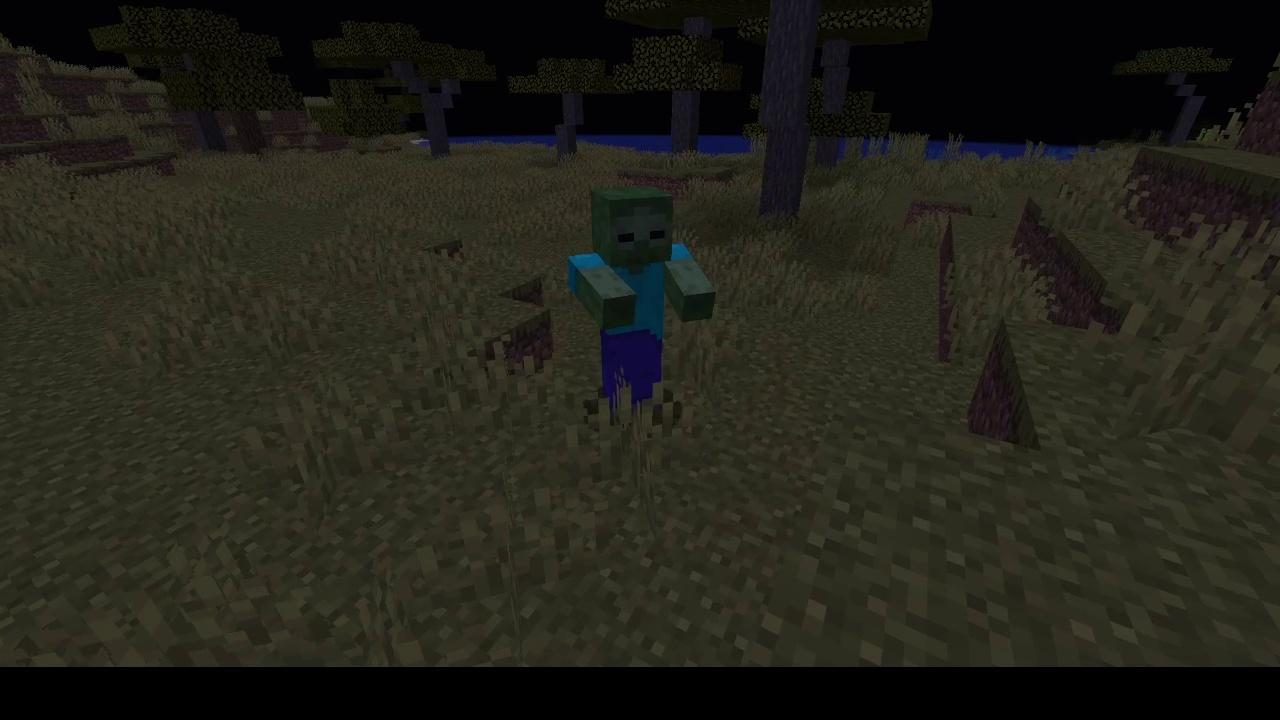zombie: (563, 181, 722, 428)
